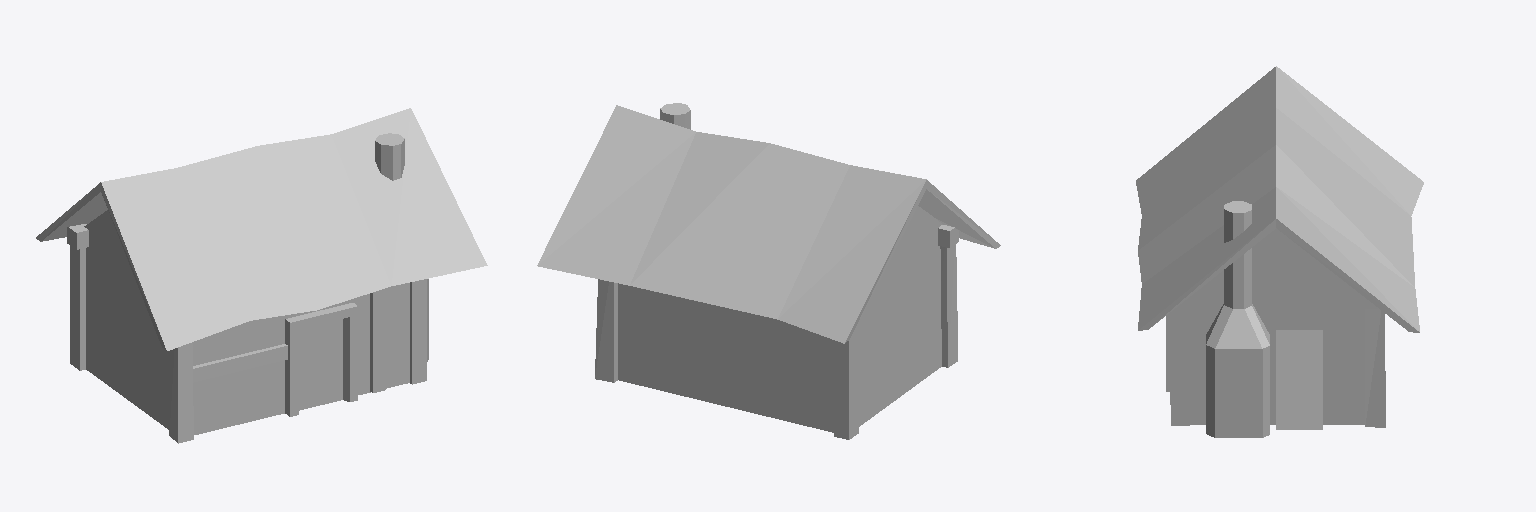
File: maison.obj
The picture shows the model from 3 angles: view 1: azimuth 30°, elevation 25°; view 2: azimuth 150°, elevation 25°; view 3: azimuth 270°, elevation 25°; orthographic projection.
Visible parts, largest first — view 1: toit_Cube.001, Cube, Cube.002_Cube.003, Cube.001_Cube.002, Cube.005_Cube.006, Cube.003_Cube.004; view 2: toit_Cube.001, Cube, Cube.001_Cube.002, Cube.003_Cube.004; view 3: toit_Cube.001, Cube, Cube.003_Cube.004, Cube.006_Cube.007, Cube.001_Cube.002.
Part boxes in pixels (x1,y1,x2,y2): toit_Cube.001: (36,108,487,350); Cube: (84,210,409,434); Cube.002_Cube.003: (285,303,357,416); Cube.001_Cube.002: (70,246,426,443); Cube.005_Cube.006: (193,288,385,392); Cube.003_Cube.004: (375,133,428,361); toit_Cube.001: (537,105,1000,343); Cube: (618,206,942,432); Cube.001_Cube.002: (595,244,957,439); Cube.003_Cube.004: (660,103,690,129); toit_Cube.001: (1136,66,1423,332); Cube: (1190,228,1364,424); Cube.003_Cube.004: (1206,201,1269,437); Cube.006_Cube.007: (1276,330,1322,429); Cube.001_Cube.002: (1171,308,1385,427).
Size of the model in its own units: 7.16 by 4.82 by 5.55.